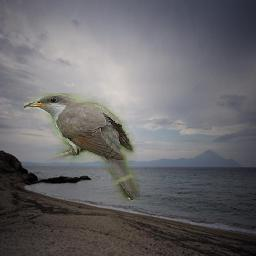Cuckoo: (24, 93, 140, 201)
